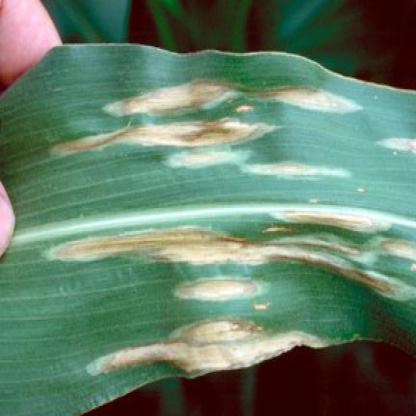Corn leaf blight: (22, 53, 415, 379)
